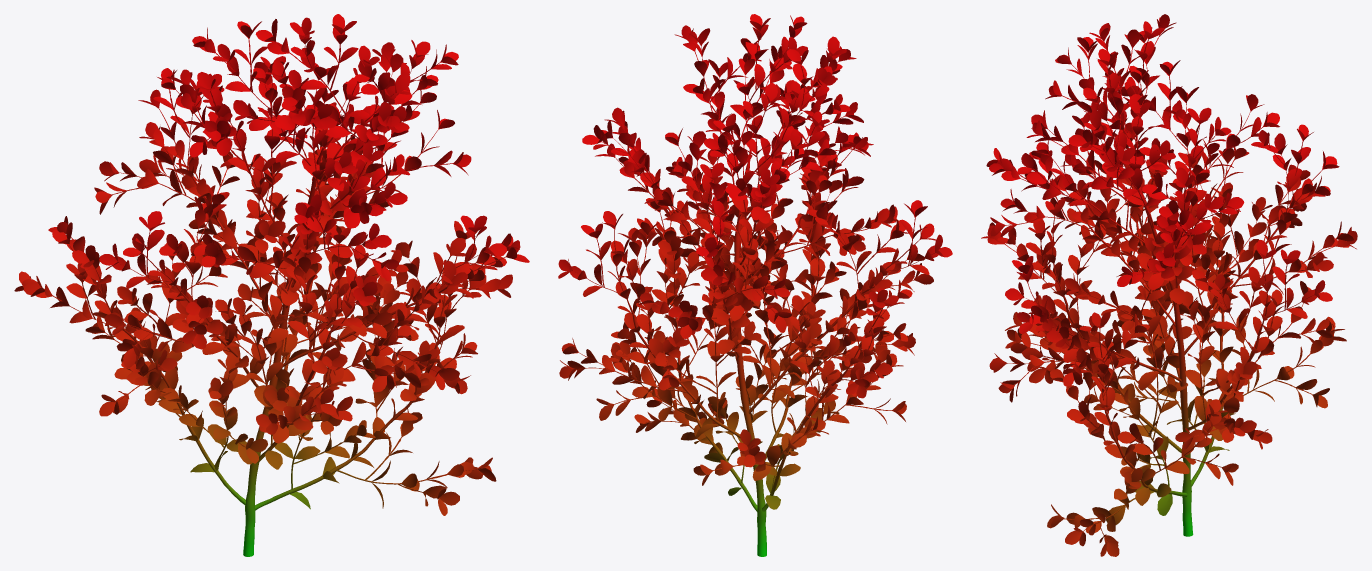
File: Var1_LOD0.fbx
3 views of the same model, side by side, from view 1: azimuth 30°, elevation 25°; view 2: azimuth 150°, elevation 25°; view 3: azimuth 270°, elevation 25° (orthographic). The views are drawn at different scales.
Parts seen in each view (by area): view 1: _71bu_Var1_LOD0; view 2: _71bu_Var1_LOD0; view 3: _71bu_Var1_LOD0.
Boxes of the visible parts, box(x1,y1,x2,y2) form: _71bu_Var1_LOD0: box(14, 14, 529, 556); _71bu_Var1_LOD0: box(558, 14, 952, 556); _71bu_Var1_LOD0: box(981, 14, 1357, 556).
Bounding box in the file's own units: 48.41 × 68.8 × 45.8.
